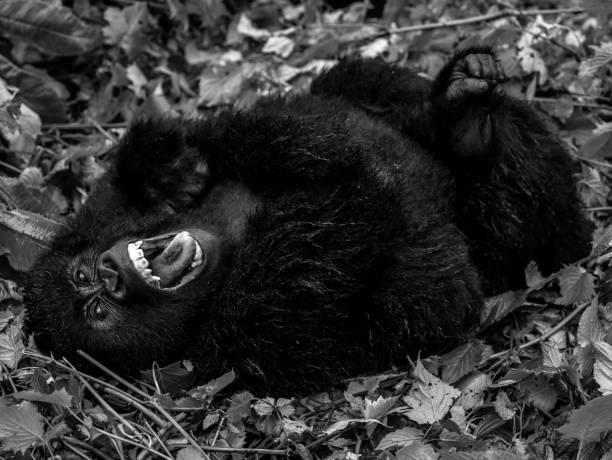goriile_montagne: (27, 45, 590, 400)
